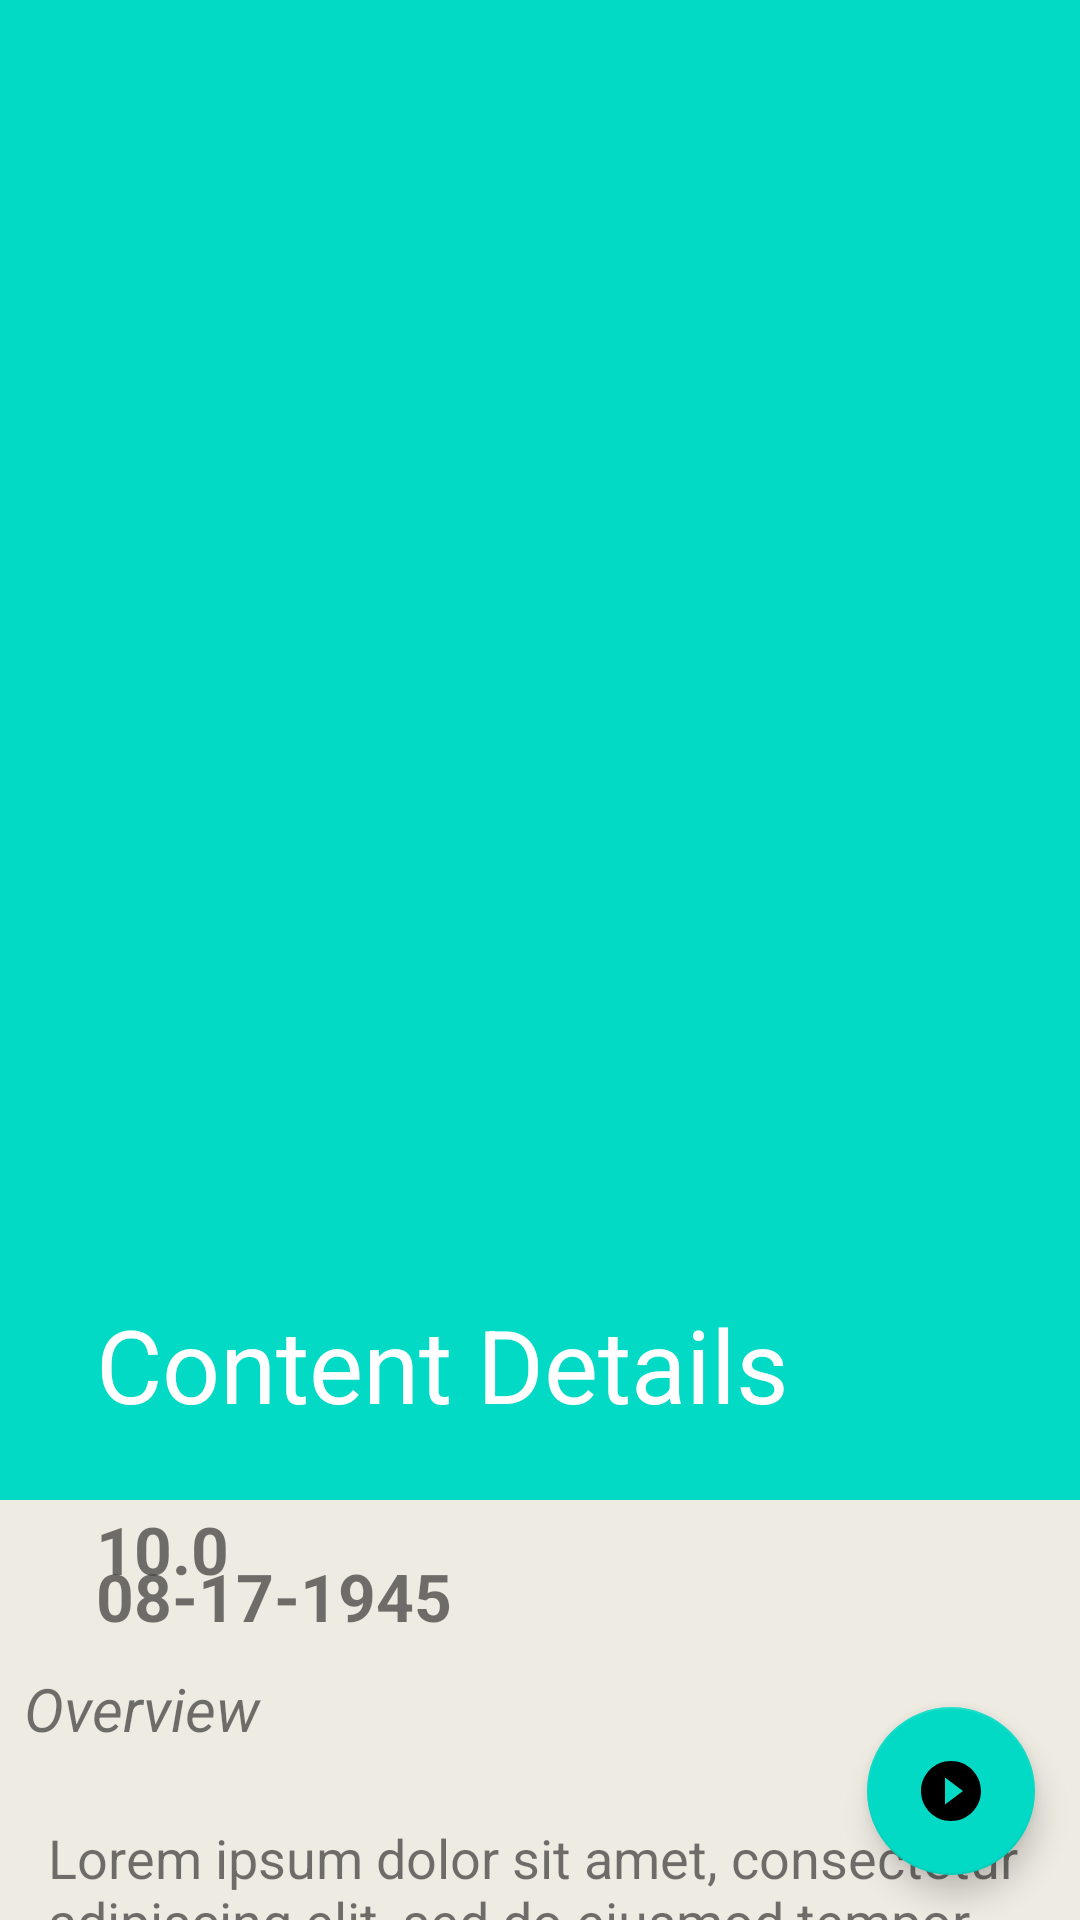

Screen size 1080px×1920px. Icon name, then its center in pixels as point (x, y):
play: point (951, 1791)
